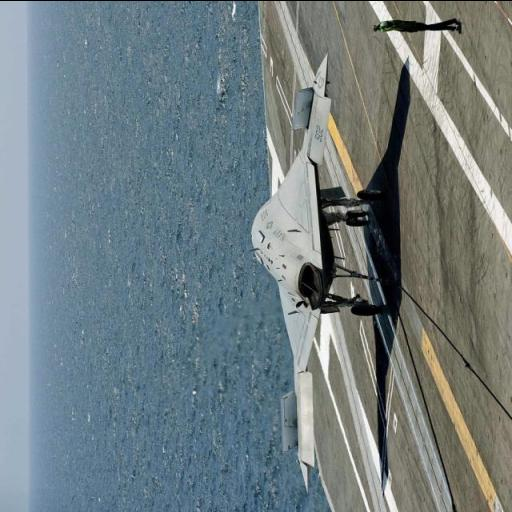uav: (235, 46, 399, 500)
